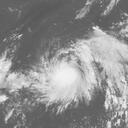cyclone: (33, 45, 92, 111)
